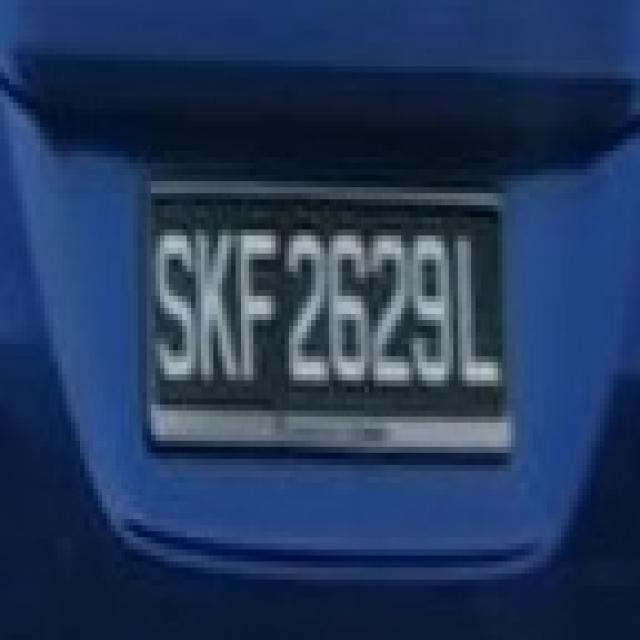2: (368, 230, 414, 384), (286, 228, 329, 385)
6: (328, 229, 369, 386)
9: (413, 230, 456, 388)
F: (237, 226, 278, 383)
K: (195, 226, 238, 380)
L: (456, 232, 502, 387)
S: (154, 231, 198, 383)
